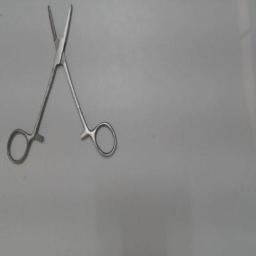Mayo Needle Holder: (3, 2, 121, 170)
